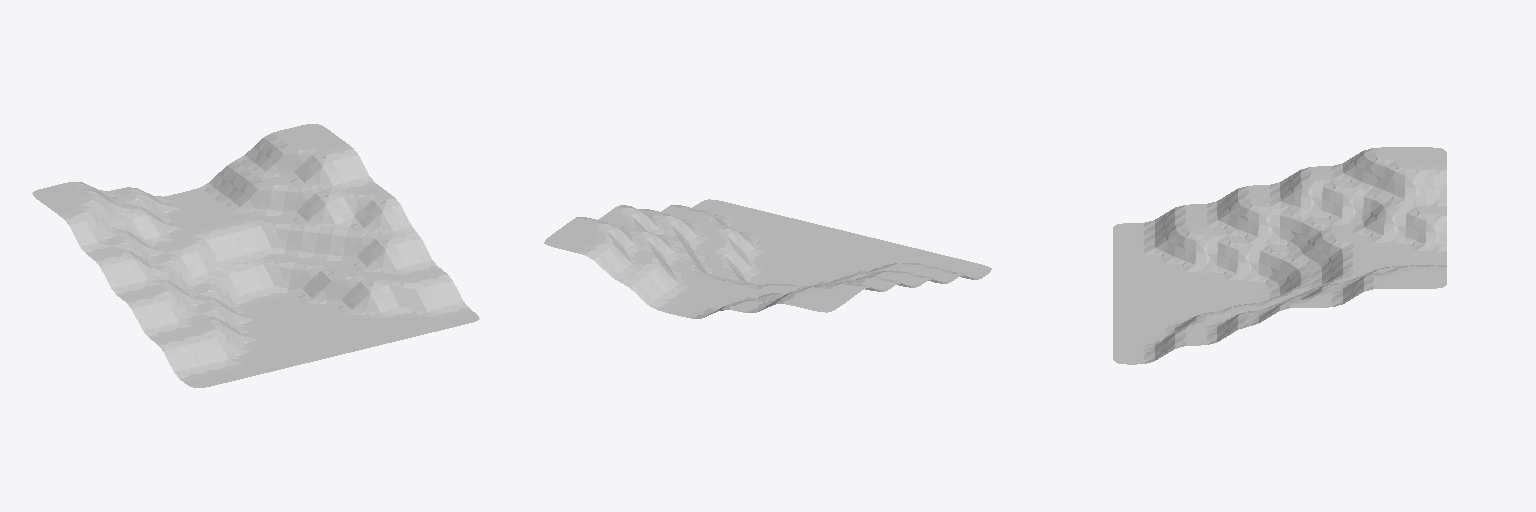
Rendered from menuHills.obj.
3 views of the same model, side by side, from view 1: azimuth 30°, elevation 25°; view 2: azimuth 150°, elevation 25°; view 3: azimuth 270°, elevation 25° (orthographic).
Parts seen in each view (by area): view 1: Plane; view 2: Plane; view 3: Plane.
Boxes of the visible parts, box(x1,y1,x2,y2) form: Plane: box(32, 124, 479, 387); Plane: box(544, 199, 991, 318); Plane: box(1113, 147, 1446, 364).
Bounding box in the file's own units: 16 × 4 × 16.